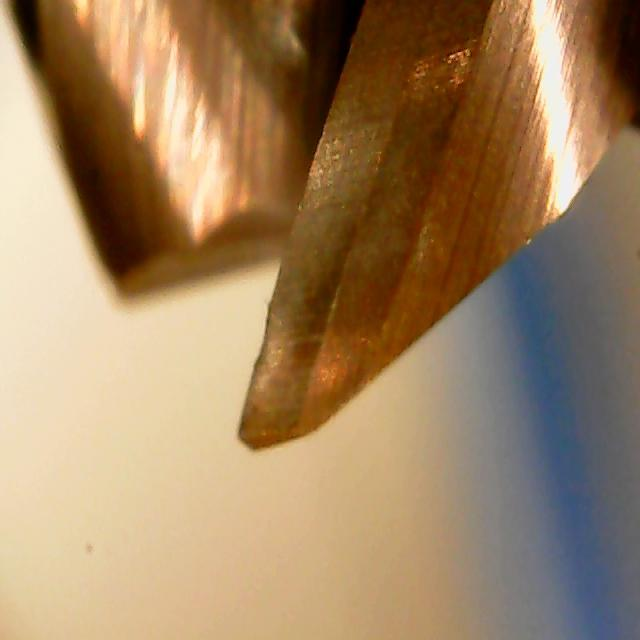Tool-wear-class-1: (217, 283, 347, 480)
